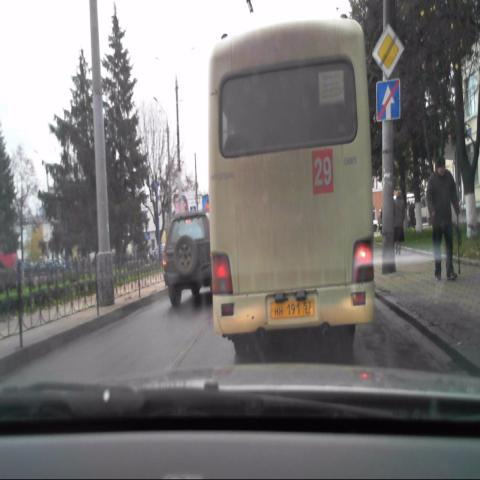2_2: (371, 23, 406, 78)
